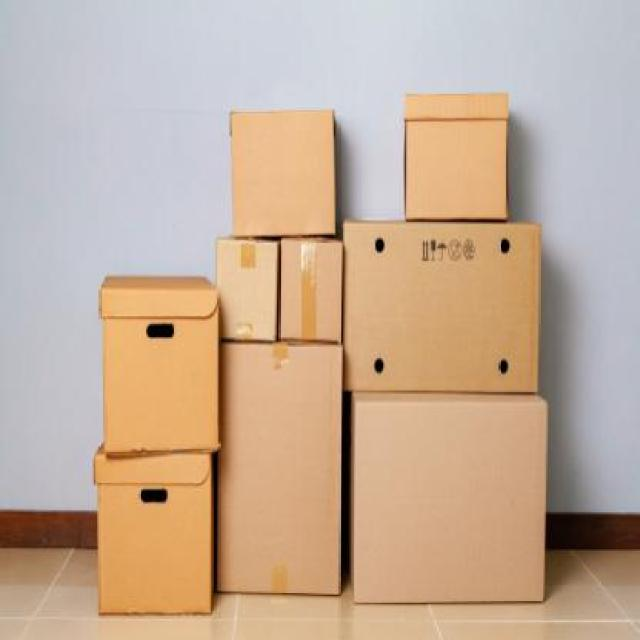box: (349, 396, 548, 609), (344, 218, 539, 394), (219, 351, 344, 595), (98, 278, 220, 458), (92, 453, 217, 628), (226, 99, 346, 236), (402, 86, 513, 232), (215, 233, 280, 350), (278, 234, 342, 343)
